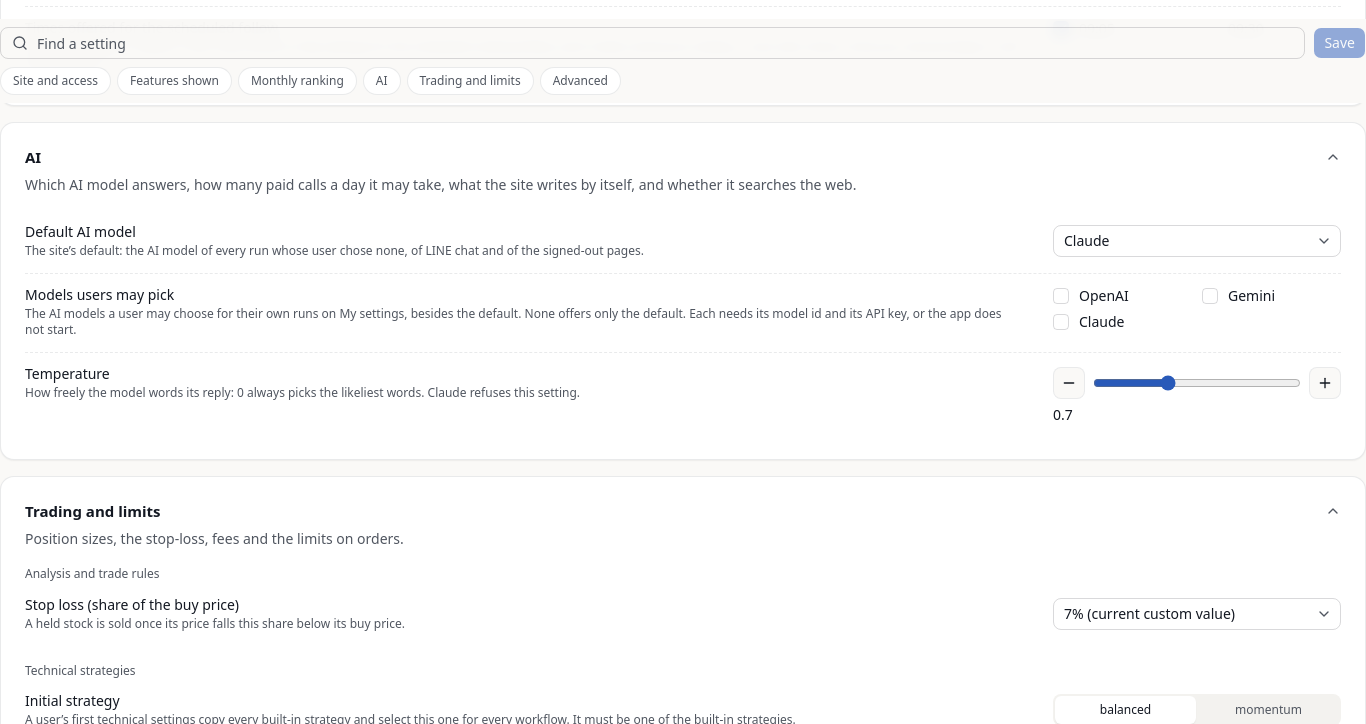
the settings page › saves only the changed settings with the password, and shows the saved values
(page scrolled)
Click the button named "Decrease Temperature": (1069, 383) [1053,367,1085,399]
(page scrolled)
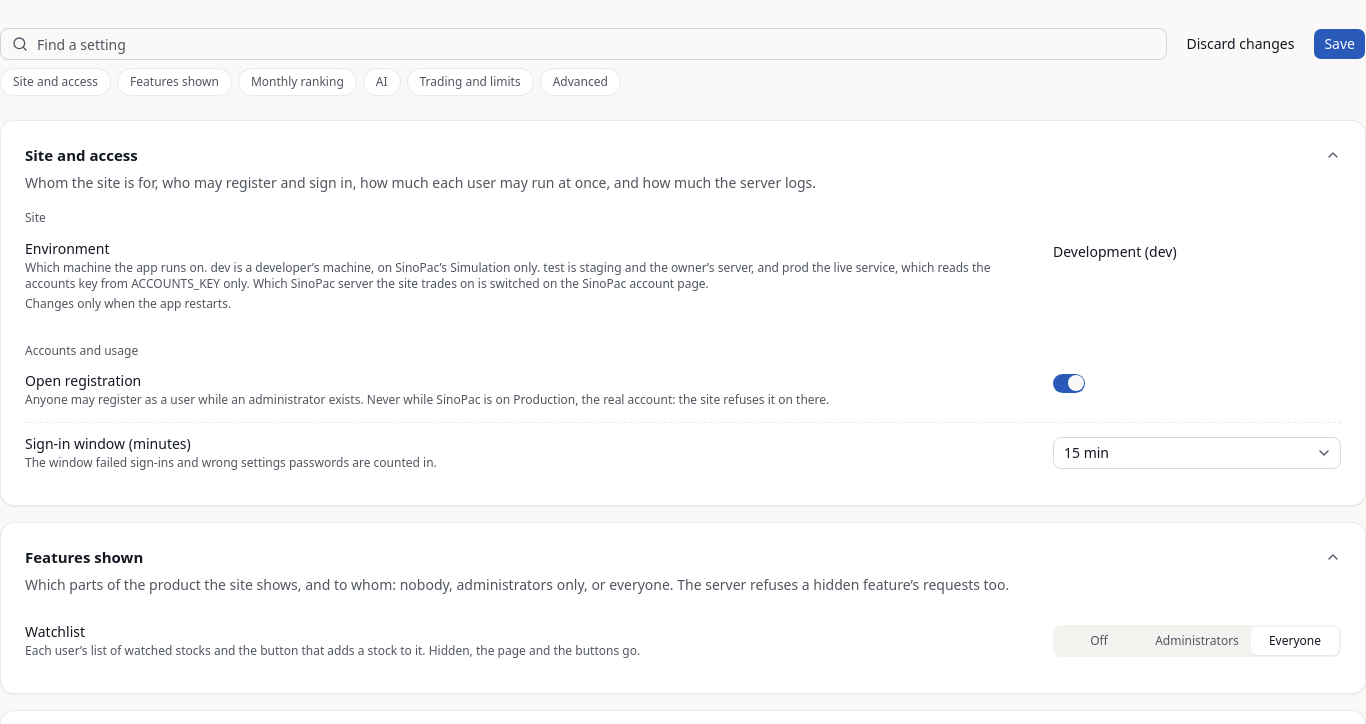
Click the switch named "Open registration": (1069, 383) [1053,374,1085,393]
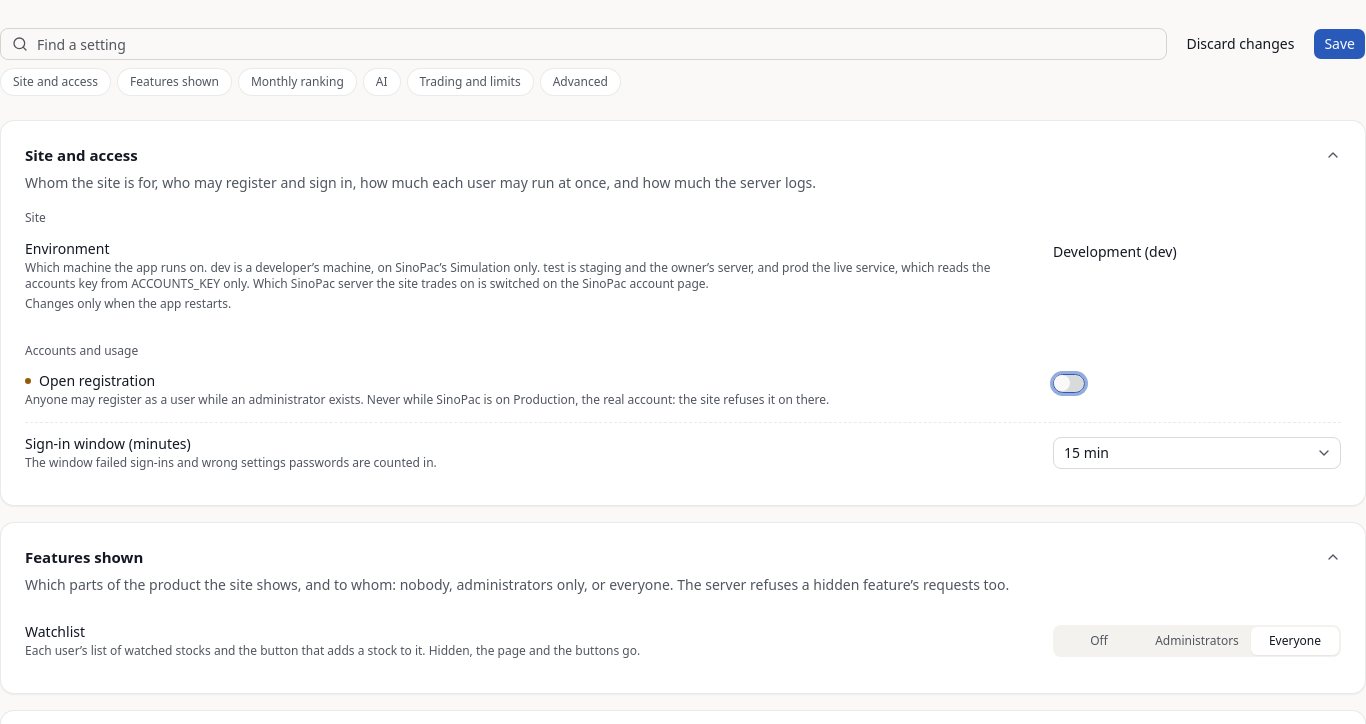
Click the radio button labelled "Administrators": (1197, 641) [1145,627,1249,655]
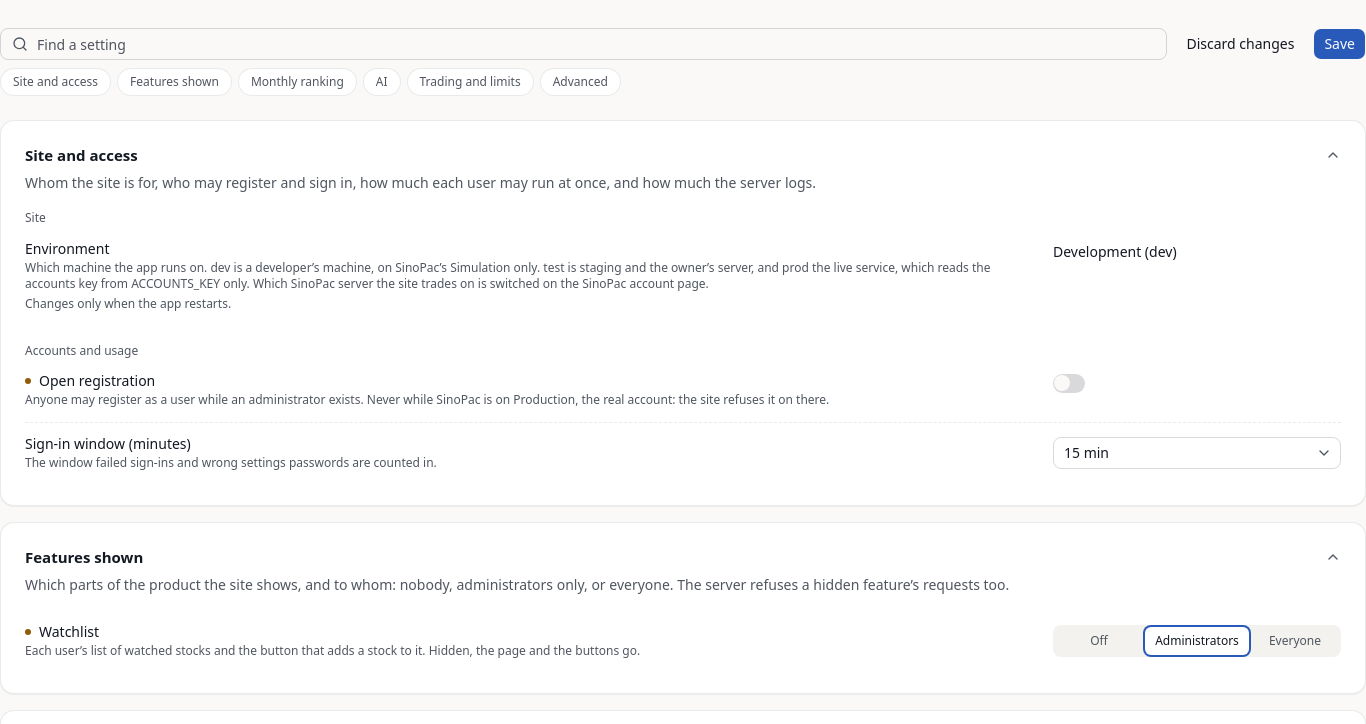
Click the button "Save": (1340, 44) [1313,28,1365,60]
(page scrolled)
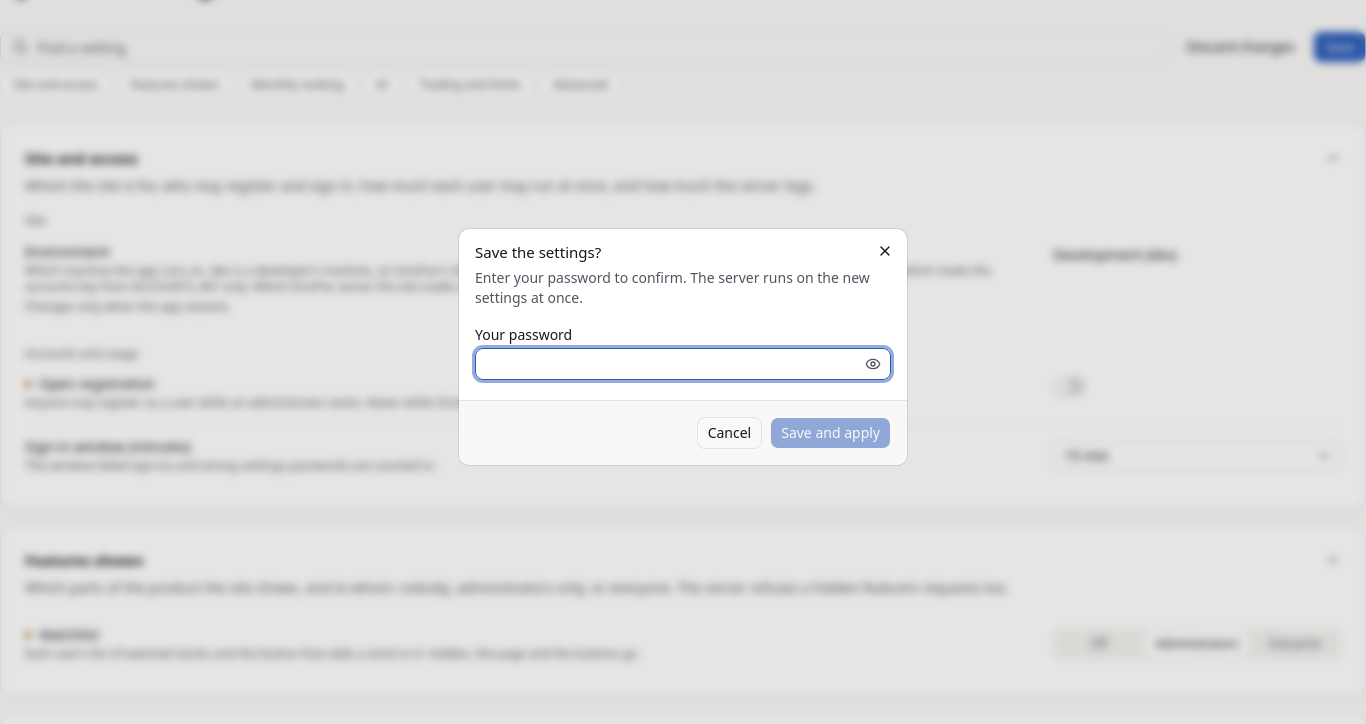
In the password field labelled "Your password": (683, 364) [475,348,891,380], type "correct horse battery"
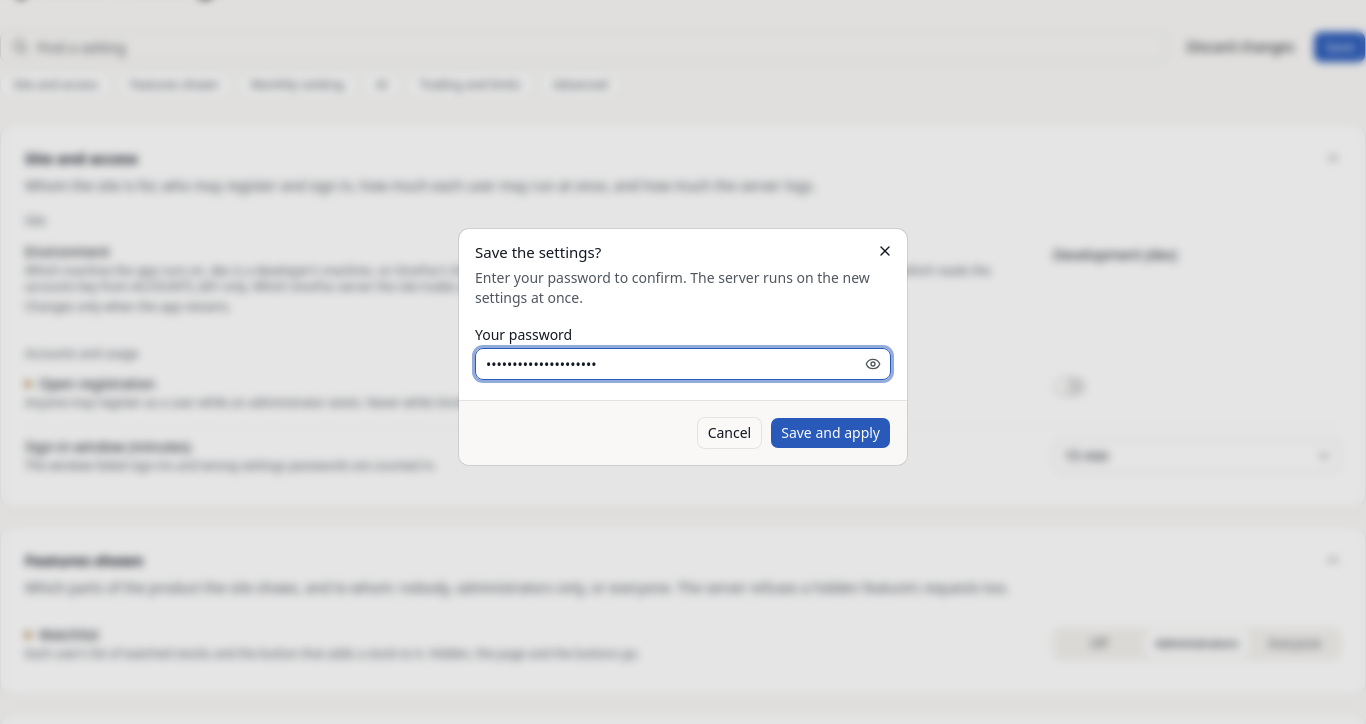
Click the button "Save and apply": (831, 433) [770,417,891,449]
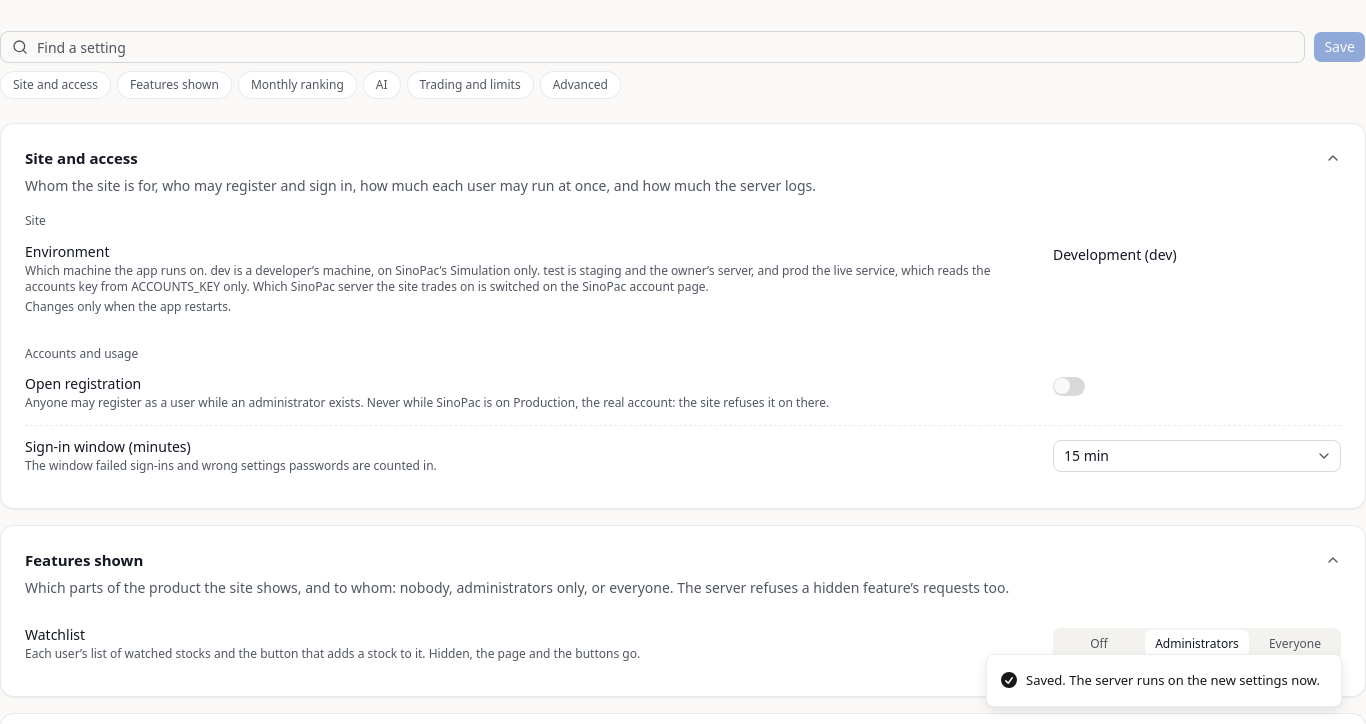
expect the switch named "Open registration" is not checked: met, box [1053,377,1085,396]
expect the radio button labelled "Administrators" is checked: met, box [1145,630,1249,658]
expect the text "Saved. The server runs on the new settings now." is shown: met, box [1026,670,1320,690]
